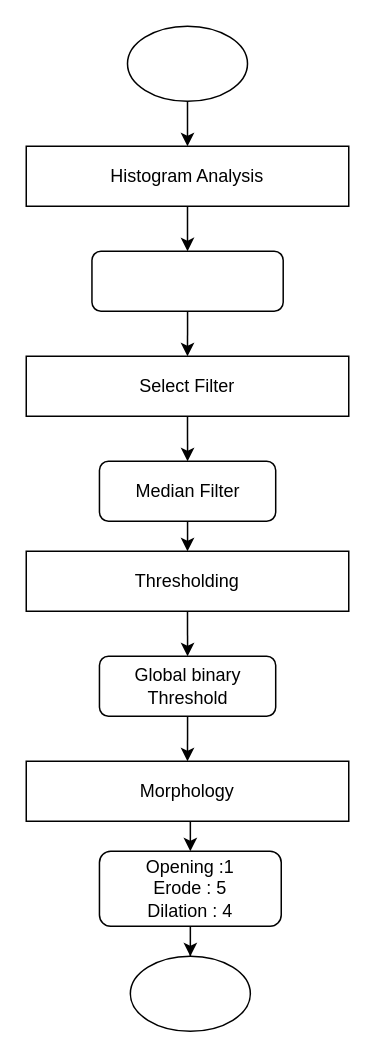
Some shapes in this 375 by 1058 pixel diagram are drawn without their labels. Here are the shapes that lost their labels. From the top down, the centre of each, then its label:
[187,63]: Image Processing
[186,280]: Equalization
[189,993]: END
